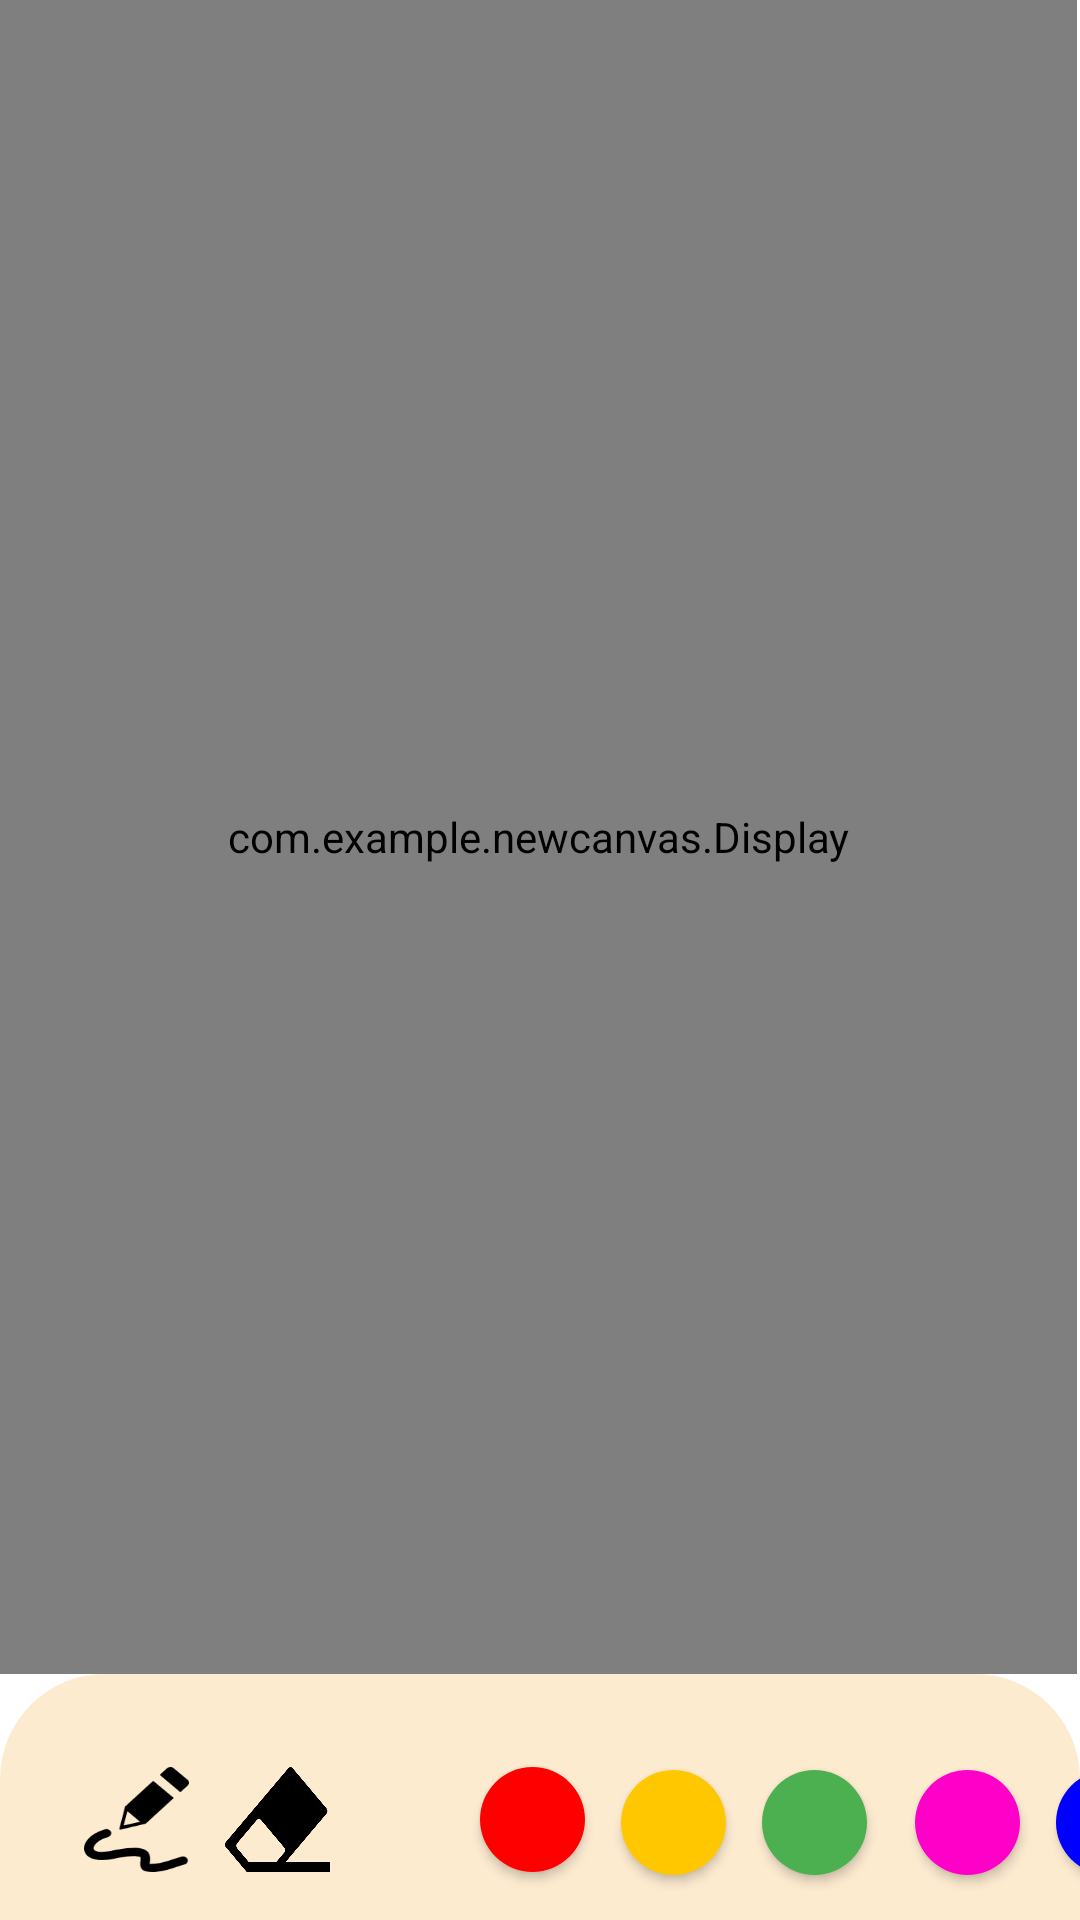

Locate icon controls on the screen. Image size 1080×1920, boxes as (x1, y1, x2, y2).
eraser: (225, 1767, 330, 1872)
pencil: (84, 1767, 189, 1872)
